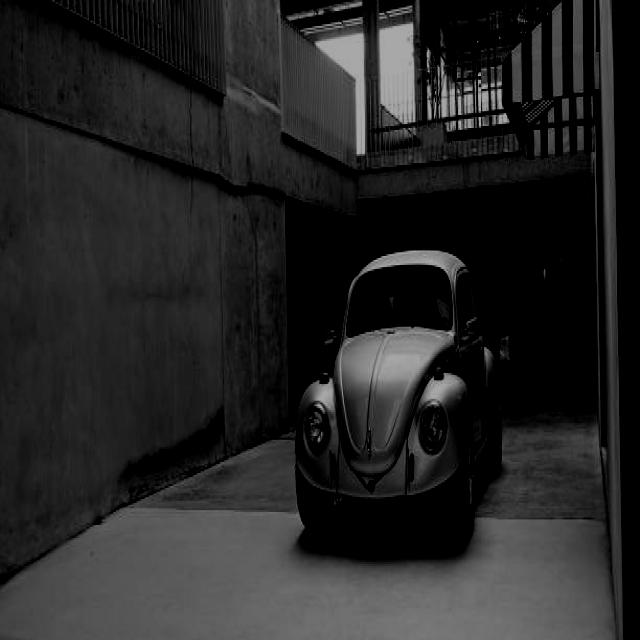car: (296, 252, 506, 544)
